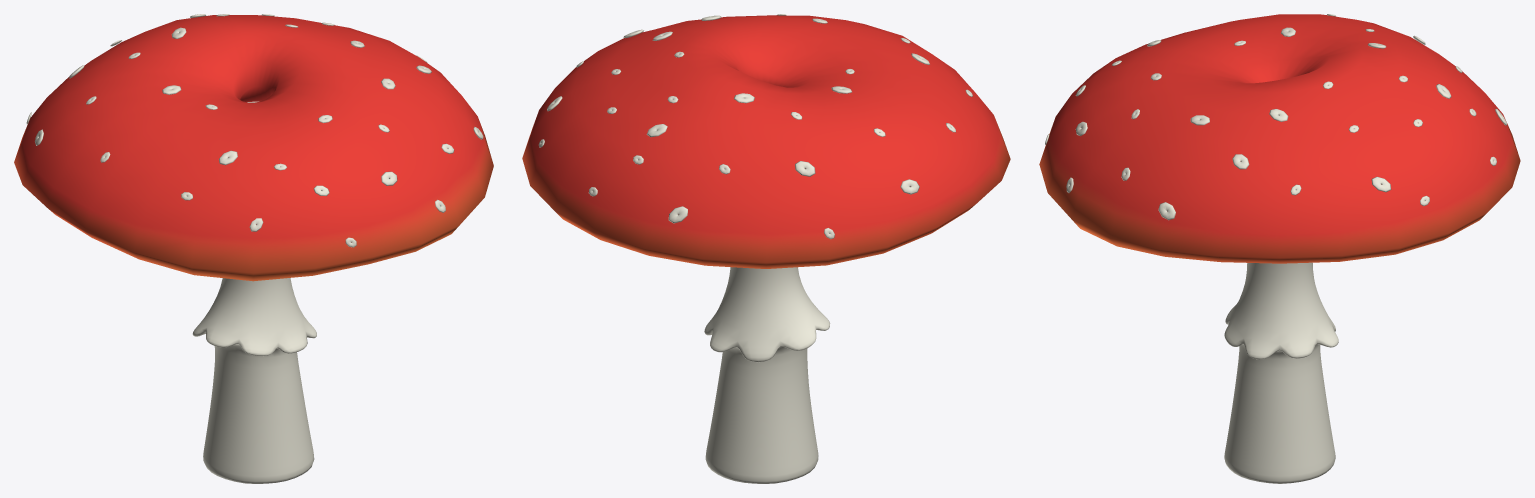
File: Poisonous Russula.fbx
3 views of the same model, side by side, from view 1: azimuth 30°, elevation 25°; view 2: azimuth 150°, elevation 25°; view 3: azimuth 270°, elevation 25° (orthographic).
Visible parts, largest first — view 1: Poisonous Russula, 圓柱體.002, Torus.006; view 2: Poisonous Russula, 圓柱體.002, Torus.006; view 3: Poisonous Russula, 圓柱體.002, Torus.006.
Part boxes in pixels (x1,y1,x2,y2): Poisonous Russula: (14,15,493,281); 圓柱體.002: (192,101,316,483); Torus.006: (26,14,483,247); Poisonous Russula: (522,15,1010,268); 圓柱體.002: (704,267,830,483); Torus.006: (538,14,972,239); Poisonous Russula: (1039,14,1520,263); 圓柱體.002: (1224,262,1338,483); Torus.006: (1045,14,1506,220).
Size of the model in its own units: 86.6 by 81.78 by 87.2.
